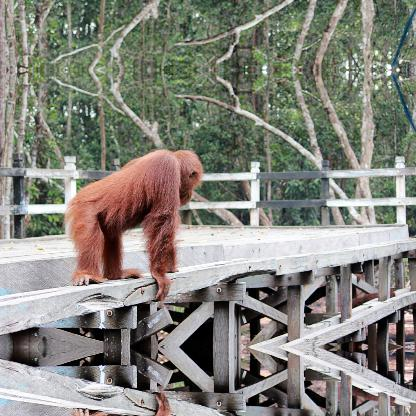Monkey: (65, 148, 204, 300)
